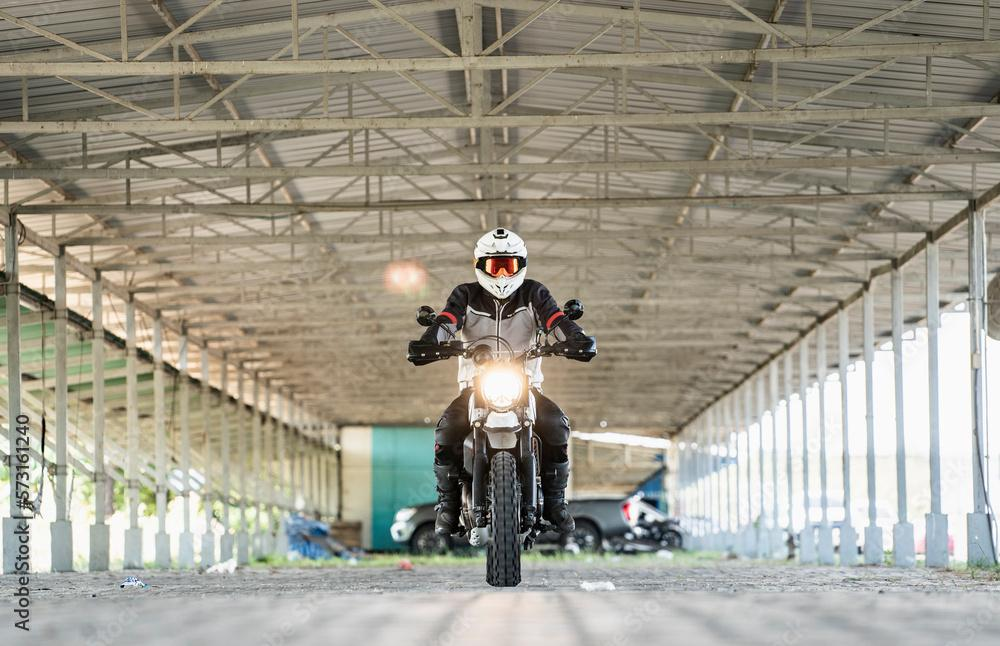helmet: (473, 226, 528, 300)
